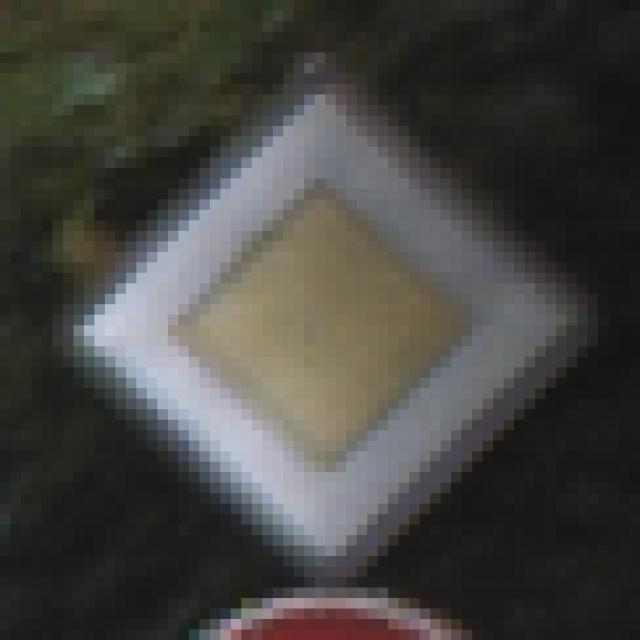Main Road: (54, 54, 589, 578)
